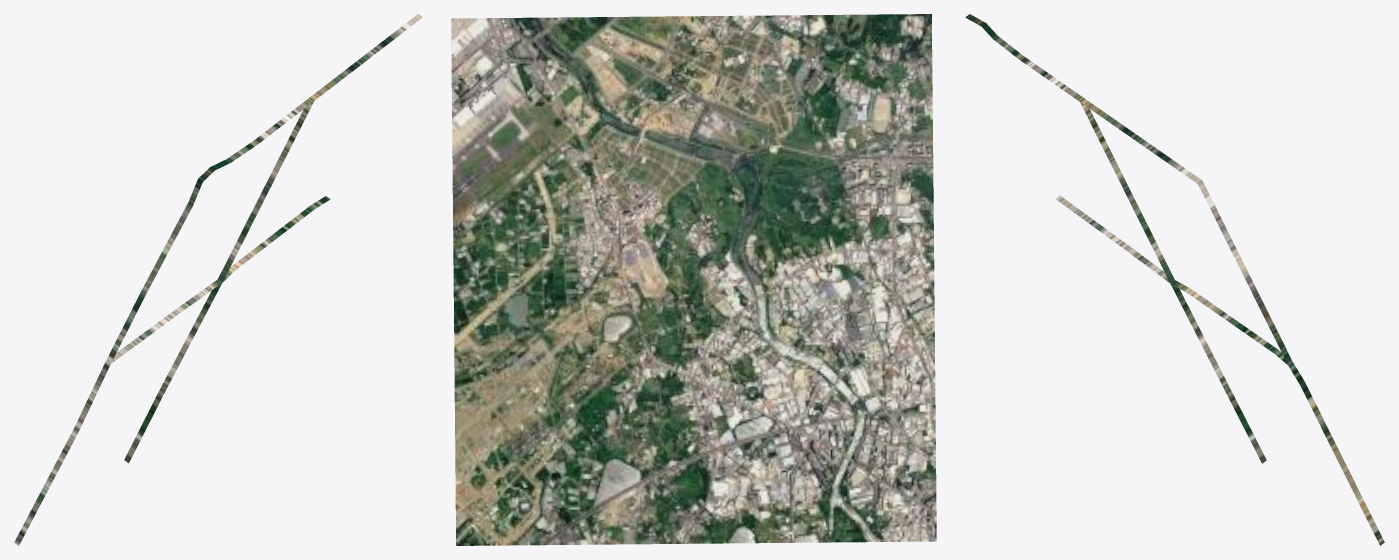
The picture shows the model from 3 angles, left to right: view 1: azimuth 30°, elevation 25°; view 2: azimuth 150°, elevation 25°; view 3: azimuth 270°, elevation 25°; orthographic projection. The views are drawn at different scales.
Bounding box in the file's own units: 4916 × 4459 × 4103.
Materials: 1 (1 with a texture image).
